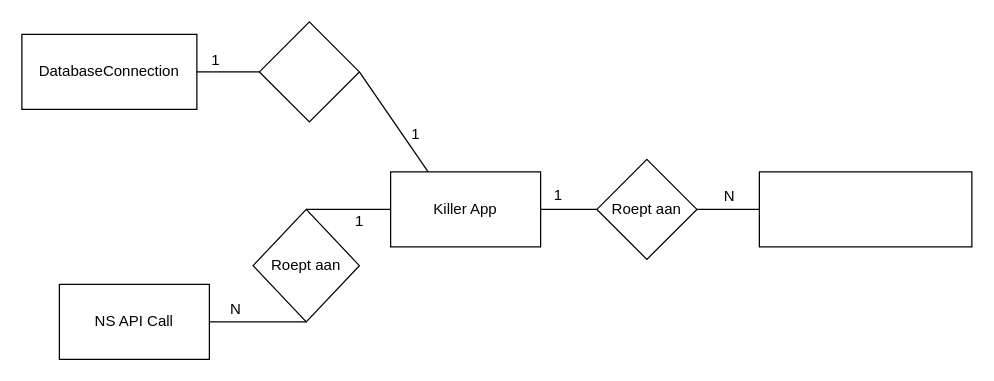
Image size: 994x381. Some labels were removed from this diagram. The shapes that lost their labels are listed below. From the top down, each one's box as (x1, y1, x2, y2) in pixels, then its label:
(258, 21, 359, 122): Heeft
(758, 171, 972, 247): CalculateTravelInformation
